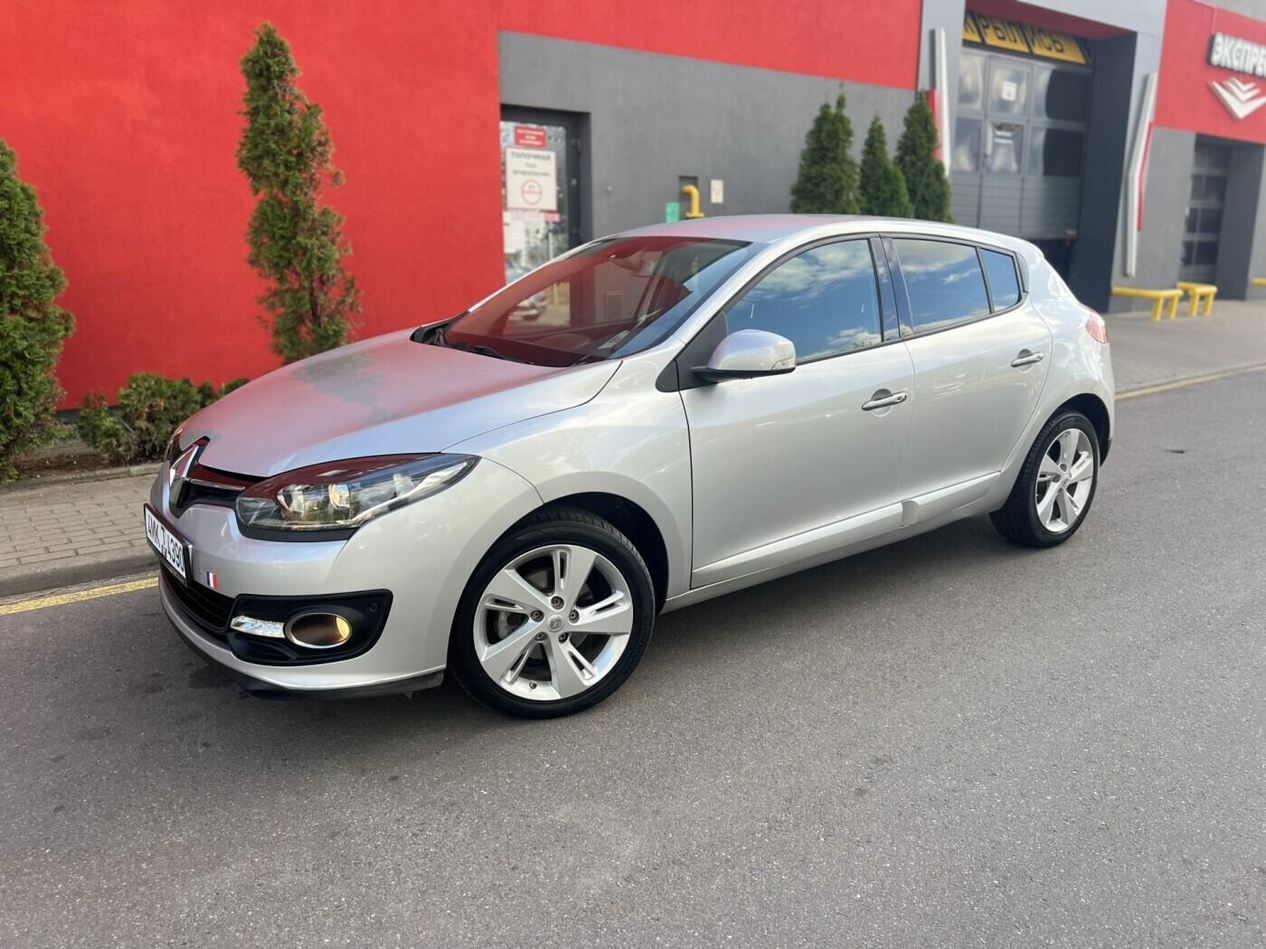Megane_2014-2016: (145, 213, 1134, 731)
